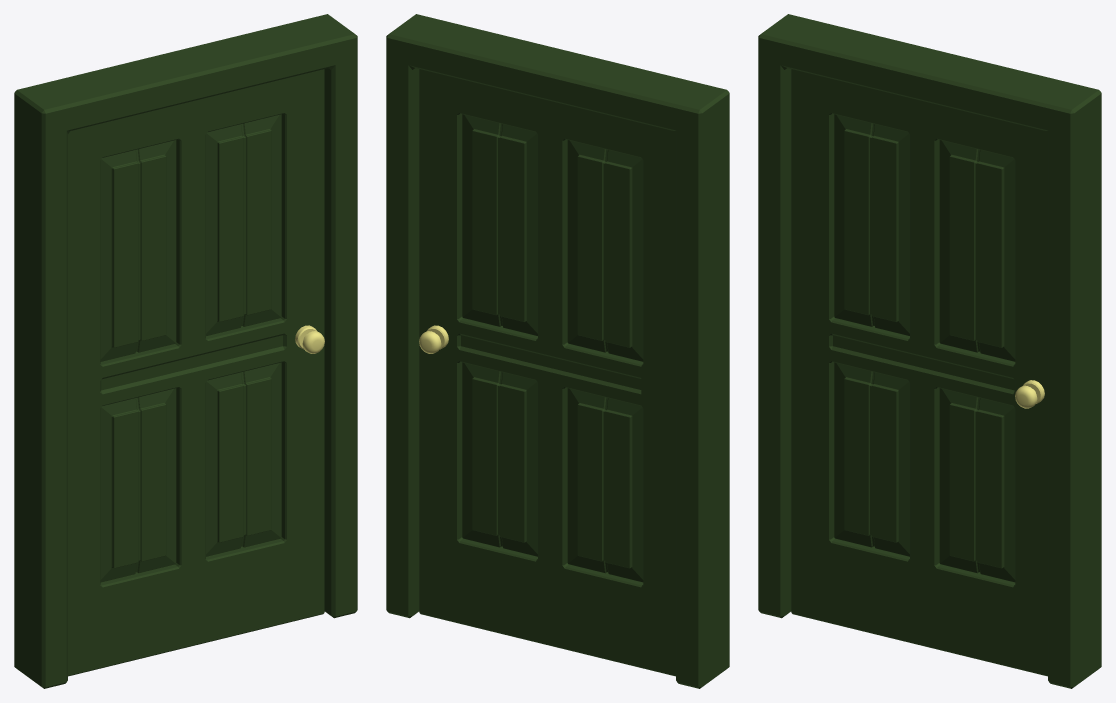
Rendered from door.glb.
The picture shows the model from 3 angles, left to right: view 1: azimuth 30°, elevation 25°; view 2: azimuth 150°, elevation 25°; view 3: azimuth 330°, elevation 25°; orthographic projection.
Visible parts, largest first — view 1: Door, DoorFrame, DoorHandle; view 2: Door, DoorFrame, DoorHandle; view 3: Door, DoorFrame, DoorHandle.
Part boxes in pixels (<box>): Door: <box>68,69,324,676</box>; DoorFrame: <box>14,14,357,688</box>; DoorHandle: <box>295,325,324,353</box>; Door: <box>419,69,675,676</box>; DoorFrame: <box>386,14,729,688</box>; DoorHandle: <box>419,325,448,353</box>; Door: <box>791,69,1047,676</box>; DoorFrame: <box>758,14,1101,688</box>; DoorHandle: <box>1015,380,1044,408</box>.
Size of the model in its own units: 1.2 by 2.1 by 0.2524.
